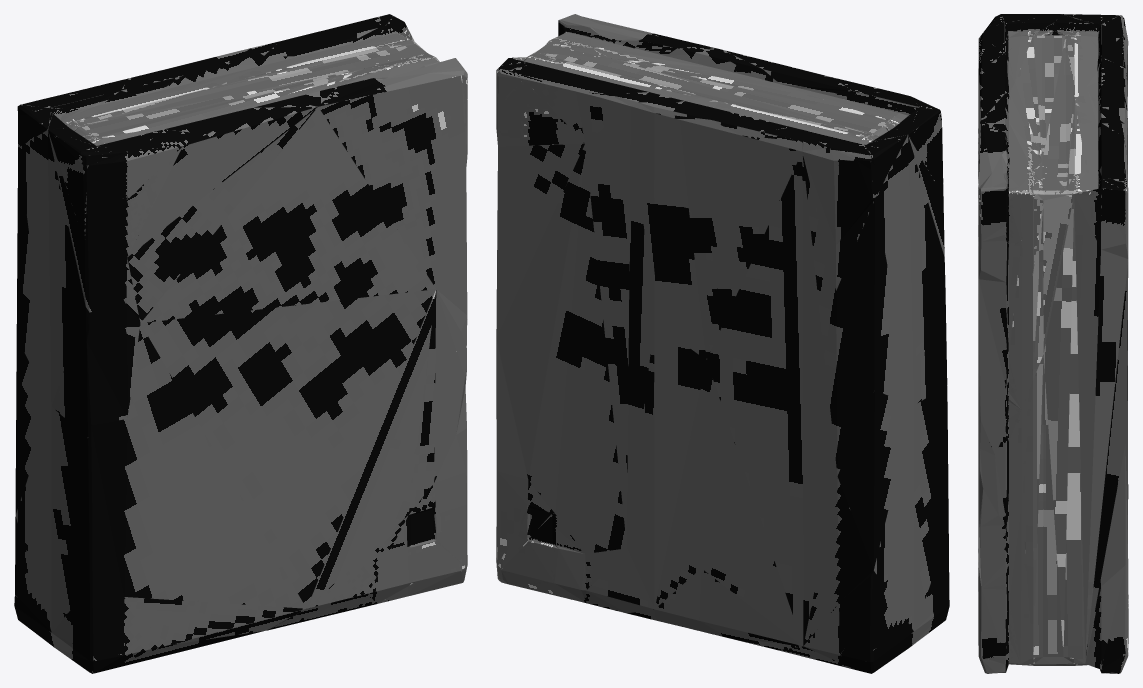
The picture shows the model from 3 angles, left to right: view 1: azimuth 30°, elevation 25°; view 2: azimuth 150°, elevation 25°; view 3: azimuth 270°, elevation 25°; orthographic projection. The views are drawn at different scales.
Parts seen in each view (by area): view 1: OBJ137; view 2: OBJ137; view 3: OBJ137.
Part boxes in pixels (bbox=[...]): OBJ137: bbox=[14, 14, 467, 673]; OBJ137: bbox=[496, 14, 949, 673]; OBJ137: bbox=[978, 14, 1128, 673].
Size of the model in its own units: 0.2456 by 0.3193 by 0.0892.
1 material, 1 textured.
